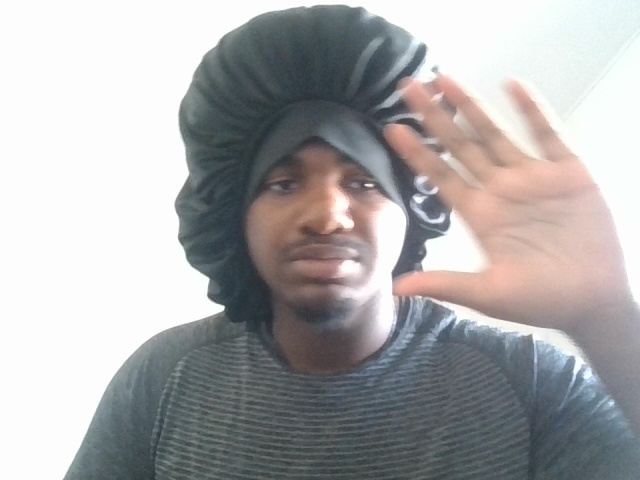Hello: (372, 65, 640, 324)
